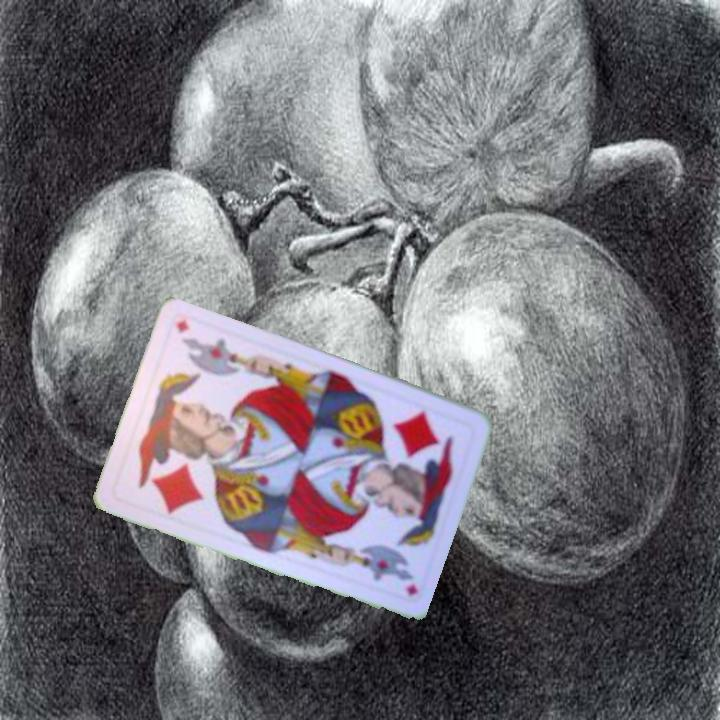d_j.png: (364, 395, 477, 517), (110, 404, 223, 526)
